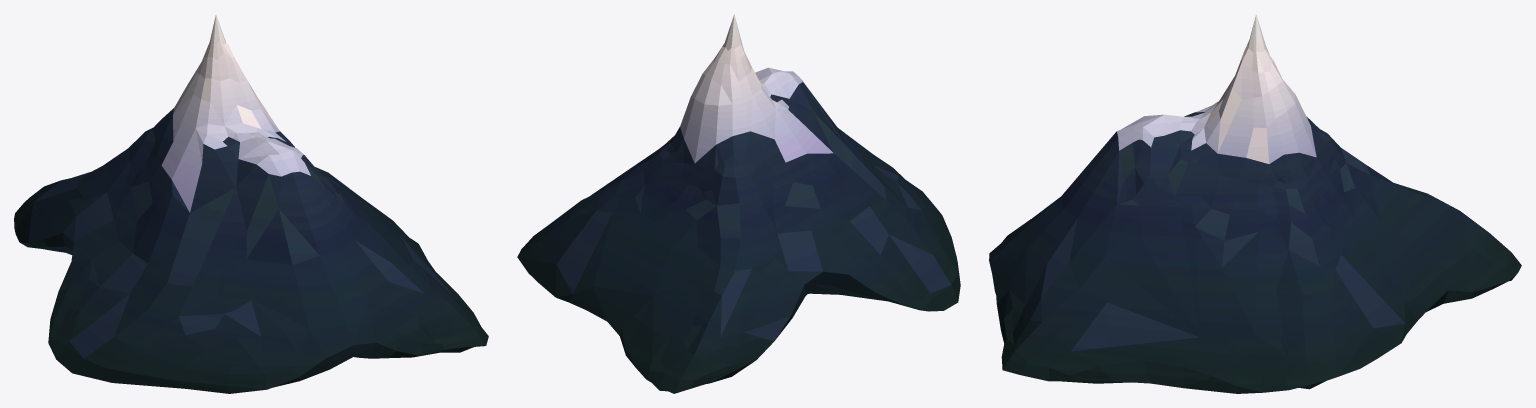
File: Mountain_002.FBX
3 renders of one model, left to right at view 1: azimuth 30°, elevation 25°; view 2: azimuth 150°, elevation 25°; view 3: azimuth 270°, elevation 25°, orthographic. The views are drawn at different scales.
Visible parts, largest first — view 1: Mountain_002; view 2: Mountain_002; view 3: Mountain_002.
Part boxes in pixels (x1,y1,x2,y2): Mountain_002: (14,14,488,393); Mountain_002: (517,14,960,393); Mountain_002: (989,14,1521,393).
Bounding box in the file's own units: 1036 × 1215 × 739.
